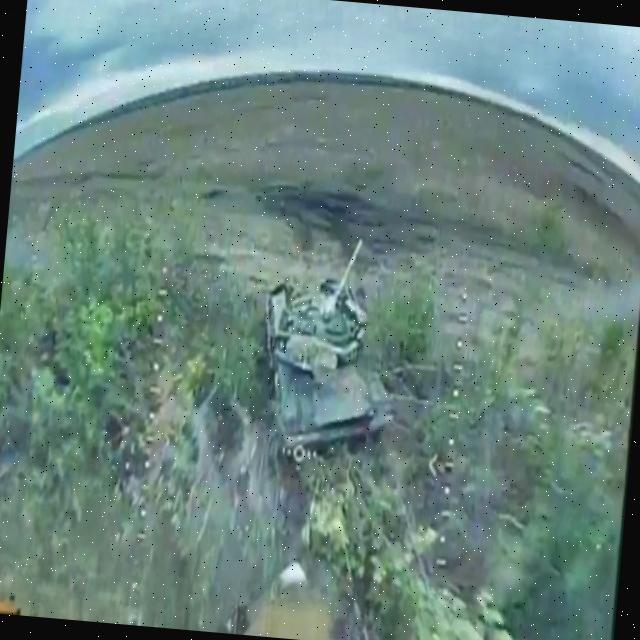MBT: (251, 231, 410, 468)
